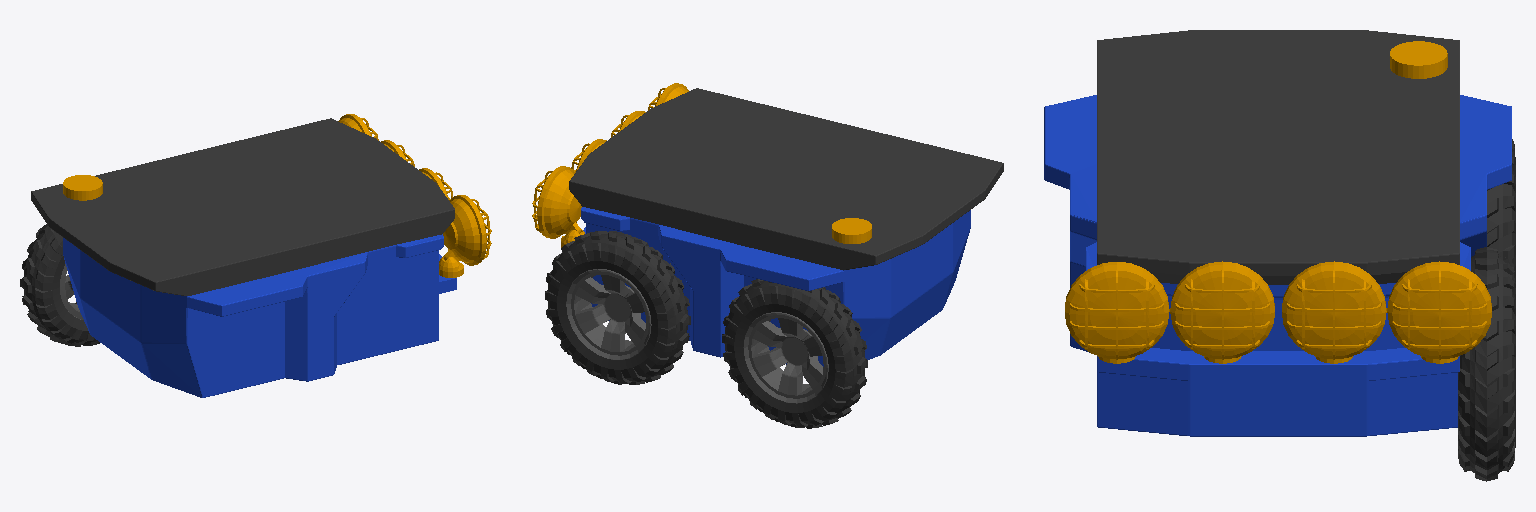
robot.urdf — X2:
<?xml version='1.0' encoding='utf-8'?>
<robot name='X2'>
  <link name='tunnel_qual_ign/X2/base'>
    <inertial>
      <origin xyz='0.011999 0.002 0.066996' rpy='0 -0 0'/>
      <mass value='16.524'/>
      <inertia ixx='0.320605' ixy='-0.000800023' ixz='0.0163992' iyy='0.399205' iyz='-0.000900133' izz='0.455501'/>
    </inertial>
    <collision name='chassis_collision'>
      <origin xyz='0 0 0.092' rpy='0 -0 0'/>
      <geometry>
        <box size='0.42 0.31 0.184'/>
      </geometry>
    </collision>
    <visual name='chassis_visual'>
      <origin xyz='0 0 -0.0655' rpy='1.5708 0 -1.5708'/>
      <geometry>
        <mesh filename='package://x2_description/meshes/x2_chassis.dae' scale='1 1 1'/>
      </geometry>
    </visual>
    <visual name='navsat_visual_1'>
      <origin xyz='-0.18 0.126 0.1895' rpy='0 -0 0'/>
      <geometry>
        <cylinder radius='0.026' length='0.016'/>
      </geometry>
    </visual>
    <visual name='center_left_headlight_visual'>
      <origin xyz='0.22 0.05 0.0845' rpy='0 0 -3.14159'/>
      <geometry>
        <mesh filename='package://x2_description/meshes/headlight.dae' scale='1 1 1'/>
      </geometry>
    </visual>
    <visual name='left_headlight_visual'>
      <origin xyz='0.22 0.145 0.0845' rpy='0 0 -3.14159'/>
      <geometry>
        <mesh filename='package://x2_description/meshes/headlight.dae' scale='1 1 1'/>
      </geometry>
    </visual>
    <visual name='center_right_headlight_visual'>
      <origin xyz='0.22 -0.05 0.0845' rpy='0 0 -3.14159'/>
      <geometry>
        <mesh filename='package://x2_description/meshes/headlight.dae' scale='1 1 1'/>
      </geometry>
    </visual>
    <visual name='right_headlight_visual'>
      <origin xyz='0.22 -0.145 0.0845' rpy='0 0 -3.14159'/>
      <geometry>
        <mesh filename='package://x2_description/meshes/headlight.dae' scale='1 1 1'/>
      </geometry>
    </visual>
  </link>
  <sensor name='imu_sensor' update_rate='1000'>
    <parent link='tunnel_qual_ign/X2/base'/>
    <origin xyz='0 0 0' rpy='0 -0 0'/>
  </sensor>
  <link name='tunnel_qual_ign/X2/front_left_wheel'>
    <inertial>
      <origin xyz='0 0 0' rpy='0 -0 0'/>
      <mass value='0.477'/>
      <inertia ixx='0.0013' ixy='0' ixz='0' iyy='0.0024' iyz='0' izz='0.0013'/>
    </inertial>
    <collision name='collision'>
      <origin xyz='0 0 0' rpy='1.5708 -0 0'/>
      <geometry>
        <cylinder radius='0.098' length='0.04'/>
      </geometry>
    </collision>
    <visual name='visual'>
      <origin xyz='0 0 0' rpy='1.5708 -0 0'/>
      <geometry>
        <mesh filename='package://x2_description/meshes/x2_wheel_left.dae' scale='1 1 1'/>
      </geometry>
    </visual>
  </link>
  <link name='tunnel_qual_ign/X2/front_right_wheel'>
    <inertial>
      <origin xyz='0 0 0' rpy='0 -0 0'/>
      <mass value='0.477'/>
      <inertia ixx='0.0013' ixy='0' ixz='0' iyy='0.0024' iyz='0' izz='0.0013'/>
    </inertial>
    <collision name='collision'>
      <origin xyz='0 0 0' rpy='1.5708 -0 0'/>
      <geometry>
        <cylinder radius='0.098' length='0.04'/>
      </geometry>
    </collision>
    <visual name='visual'>
      <origin xyz='0 0 0' rpy='1.5708 -0 0'/>
      <geometry>
        <mesh filename='package://x2_description/meshes/x2_wheel_right.dae' scale='1 1 1'/>
      </geometry>
    </visual>
  </link>
  <link name='tunnel_qual_ign/X2/rear_left_wheel'>
    <inertial>
      <origin xyz='0 0 0' rpy='0 -0 0'/>
      <mass value='0.477'/>
      <inertia ixx='0.0013' ixy='0' ixz='0' iyy='0.0024' iyz='0' izz='0.0013'/>
    </inertial>
    <collision name='collision'>
      <origin xyz='0 0 0' rpy='1.5708 -0 0'/>
      <geometry>
        <cylinder radius='0.098' length='0.04'/>
      </geometry>
    </collision>
    <visual name='visual'>
      <origin xyz='0 0 0' rpy='1.5708 -0 0'/>
      <geometry>
        <mesh filename='package://x2_description/meshes/x2_wheel_left.dae' scale='1 1 1'/>
      </geometry>
    </visual>
  </link>
  <link name='tunnel_qual_ign/X2/rear_right_wheel'>
    <inertial>
      <origin xyz='0 0 0' rpy='0 -0 0'/>
      <mass value='0.477'/>
      <inertia ixx='0.0013' ixy='0' ixz='0' iyy='0.0024' iyz='0' izz='0.0013'/>
    </inertial>
    <collision name='collision'>
      <origin xyz='0 0 0' rpy='1.5708 -0 0'/>
      <geometry>
        <cylinder radius='0.098' length='0.04'/>
      </geometry>
    </collision>
    <visual name='visual'>
      <origin xyz='0 0 0' rpy='1.5708 -0 0'/>
      <geometry>
        <mesh filename='package://x2_description/meshes/x2_wheel_right.dae' scale='1 1 1'/>
      </geometry>
    </visual>
  </link>
  <joint name='front_left_wheel_joint' type='revolute'>
    <origin xyz='0.131 0.187795 0.0345' rpy='0 -0 0'/>
    <parent link='tunnel_qual_ign/X2/base'/>
    <child link='tunnel_qual_ign/X2/front_left_wheel'/>
    <axis xyz='0 1 0'/>
    <limit lower='-1e+16' upper='1e+16' effort='-1' velocity='-1'/>
  </joint>
  <joint name='rear_left_wheel_joint' type='revolute'>
    <origin xyz='-0.131 0.187795 0.0345' rpy='0 -0 0'/>
    <parent link='tunnel_qual_ign/X2/base'/>
    <child link='tunnel_qual_ign/X2/rear_left_wheel'/>
    <axis xyz='0 1 0'/>
    <limit lower='-1.79769e+308' upper='1.79769e+308' effort='-1' velocity='-1'/>
  </joint>
  <joint name='rear_right_wheel_joint' type='revolute'>
    <origin xyz='-0.131 -0.187795 0.0345' rpy='0 -0 0'/>
    <parent link='tunnel_qual_ign/X2/base'/>
    <child link='tunnel_qual_ign/X2/rear_right_wheel'/>
    <axis xyz='0 1 0'/>
    <limit lower='-1.79769e+308' upper='1.79769e+308' effort='-1' velocity='-1'/>
  </joint>
  <joint name='front_right_wheel_joint' type='revolute'>
    <origin xyz='0.131 -0.187795 0.0345' rpy='0 -0 0'/>
    <parent link='tunnel_qual_ign/X2/base'/>
    <child link='tunnel_qual_ign/X2/front_right_wheel'/>
    <axis xyz='0 1 0'/>
    <limit lower='-1.79769e+308' upper='1.79769e+308' effort='-1' velocity='-1'/>
  </joint>
</robot>

--- What the picture shows (computed from the rendered views, not written in the file) ---
The picture shows the robot from 3 angles, left to right: view 1: azimuth 30°, elevation 25°; view 2: azimuth 150°, elevation 25°; view 3: azimuth 270°, elevation 25°; orthographic projection.
Robot: X2 — 5 links, 4 joints (4 revolute); root link tunnel_qual_ign/X2/base; default pose: every joint at zero.
Links seen in each view (by area): view 1: tunnel_qual_ign/X2/base, tunnel_qual_ign/X2/rear_left_wheel; view 2: tunnel_qual_ign/X2/base, tunnel_qual_ign/X2/front_left_wheel, tunnel_qual_ign/X2/rear_left_wheel; view 3: tunnel_qual_ign/X2/base, tunnel_qual_ign/X2/front_left_wheel, tunnel_qual_ign/X2/rear_left_wheel.
Link boxes in pixels (x1,y1,x2,y2): tunnel_qual_ign/X2/base: [31, 114, 491, 397]; tunnel_qual_ign/X2/rear_left_wheel: [20, 224, 99, 346]; tunnel_qual_ign/X2/base: [532, 83, 1003, 366]; tunnel_qual_ign/X2/front_left_wheel: [545, 231, 690, 384]; tunnel_qual_ign/X2/rear_left_wheel: [722, 279, 867, 428]; tunnel_qual_ign/X2/base: [1044, 30, 1511, 436]; tunnel_qual_ign/X2/front_left_wheel: [1458, 247, 1515, 481]; tunnel_qual_ign/X2/rear_left_wheel: [1487, 139, 1515, 280].
Size in the robot's own frame: 0.5228 by 0.4231 by 0.2683 metres.
Meshes: 4 distinct files referenced, 7 mesh visuals loaded (3 Collada DAE); not drawn: 2 (reference not matched to a file when rendering).